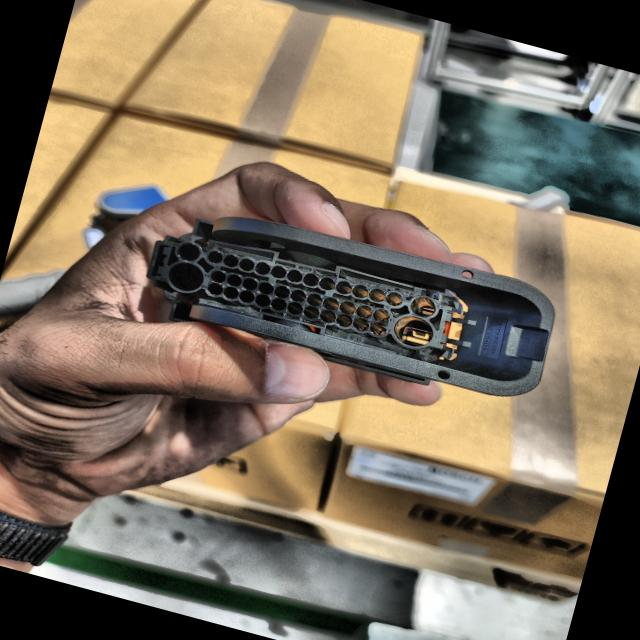P38: (147, 217, 554, 396)
